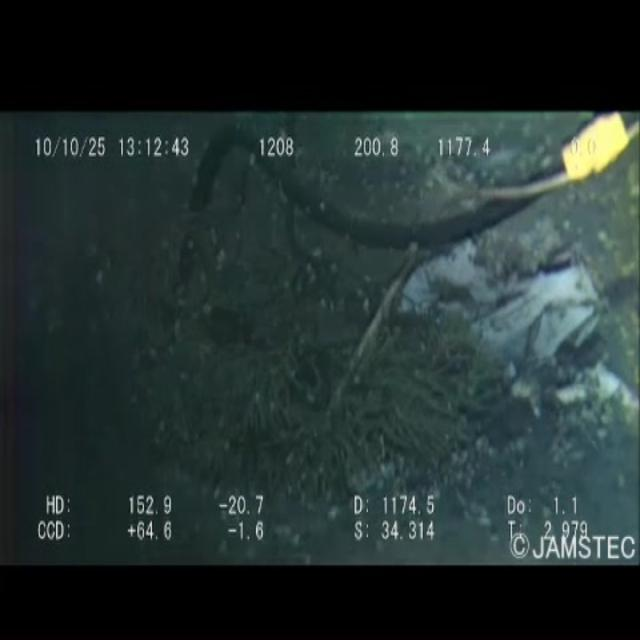Natual-Debris: (104, 251, 466, 484)
